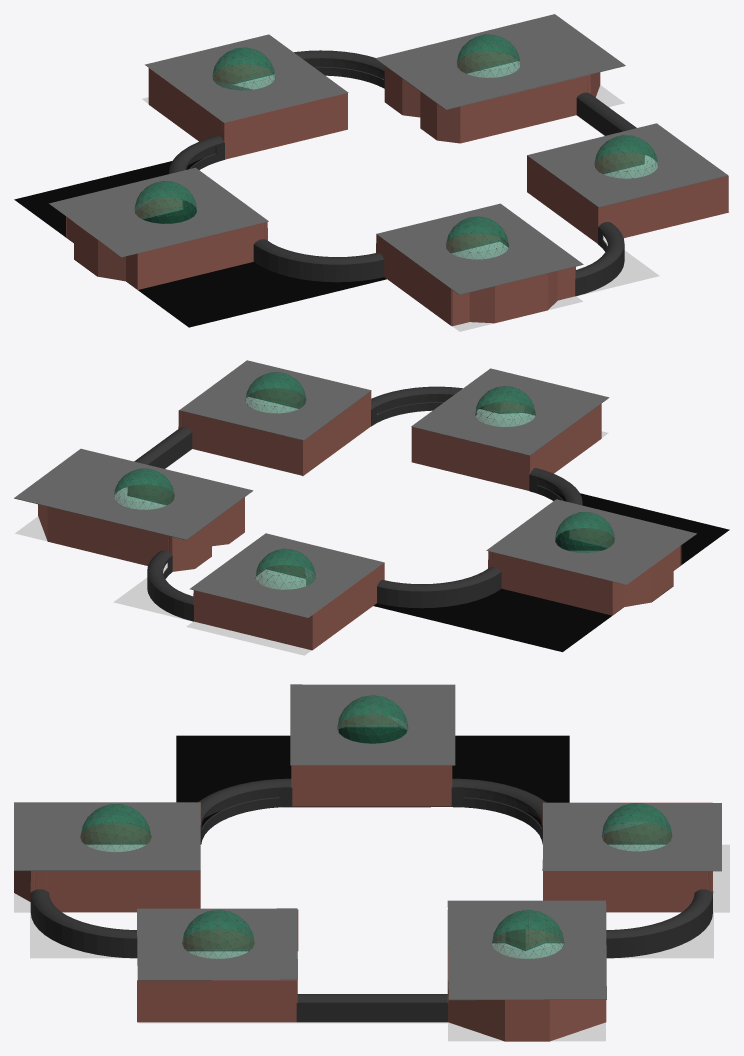
Rendered from Museo1.fbx.
3 renders of one model, top to bottom at view 1: azimuth 30°, elevation 25°; view 2: azimuth 150°, elevation 25°; view 3: azimuth 270°, elevation 25°, orthographic. The views are drawn at different scales.
Visible parts, largest first — view 1: TechoSala2.001, PisoSala1, Techo, TechoSala2, TechoSALA5, TechoSala2.002, Cubo.020, Cubo.011, PasilloEnt1, Cubo.008, Cubo.003, PasilloDer (+22 smaller); view 2: TechoSala2.001, PisoSala1, Techo, TechoSala2, TechoSALA5, TechoSala2.002, Cubo.021, Cubo.009, PasilloEnt2, Cubo.015, Cubo.024, PasilloIzq (+22 smaller); view 3: TechoSala2.001, PisoSala1, Techo, TechoSala2, TechoSALA5, TechoSala2.002, Cubo.007, Pared, Cubo.017, Cubo.012, Cubo.006, Puerta (+18 smaller).
Boxes of the visible parts, bbox=[...] form: TechoSala2.001: bbox=[375, 14, 625, 109]; PisoSala1: bbox=[14, 158, 386, 327]; Techo: bbox=[49, 167, 268, 257]; TechoSala2: bbox=[376, 203, 583, 294]; TechoSALA5: bbox=[145, 34, 348, 122]; TechoSala2.002: bbox=[527, 123, 728, 207]; Cubo.020: bbox=[460, 74, 590, 143]; Cubo.011: bbox=[224, 93, 347, 159]; PasilloEnt1: bbox=[137, 222, 267, 289]; Cubo.008: bbox=[598, 176, 727, 237]; Cubo.003: bbox=[452, 267, 575, 326]; PasilloDer: bbox=[253, 239, 384, 282]; TechoSala2.001: bbox=[14, 448, 253, 540]; PisoSala1: bbox=[373, 490, 729, 652]; Techo: bbox=[486, 499, 696, 584]; TechoSala2: bbox=[411, 368, 609, 455]; TechoSALA5: bbox=[190, 533, 383, 617]; TechoSala2.002: bbox=[179, 360, 371, 440]; Cubo.021: bbox=[411, 427, 529, 490]; Cubo.009: bbox=[178, 410, 302, 475]; PasilloEnt2: bbox=[488, 551, 612, 615]; Cubo.015: bbox=[48, 507, 172, 565]; Cubo.024: bbox=[194, 590, 311, 650]; PasilloIzq: bbox=[377, 567, 501, 608]; TechoSala2.001: bbox=[447, 900, 606, 1000]; PisoSala1: bbox=[176, 727, 569, 843]; Techo: bbox=[290, 684, 455, 765]; TechoSala2: bbox=[14, 802, 200, 870]; TechoSALA5: bbox=[542, 802, 721, 871]; TechoSala2.002: bbox=[137, 908, 297, 980]; Cubo.007: bbox=[137, 980, 296, 1022]; Pared: bbox=[292, 765, 451, 806]; Cubo.017: bbox=[30, 871, 199, 912]; Cubo.012: bbox=[543, 871, 713, 912]; Cubo.006: bbox=[448, 981, 606, 1041]; Puerta: bbox=[296, 994, 447, 1022].
Size of the model in its own units: 16748 by 1798 by 16066.
